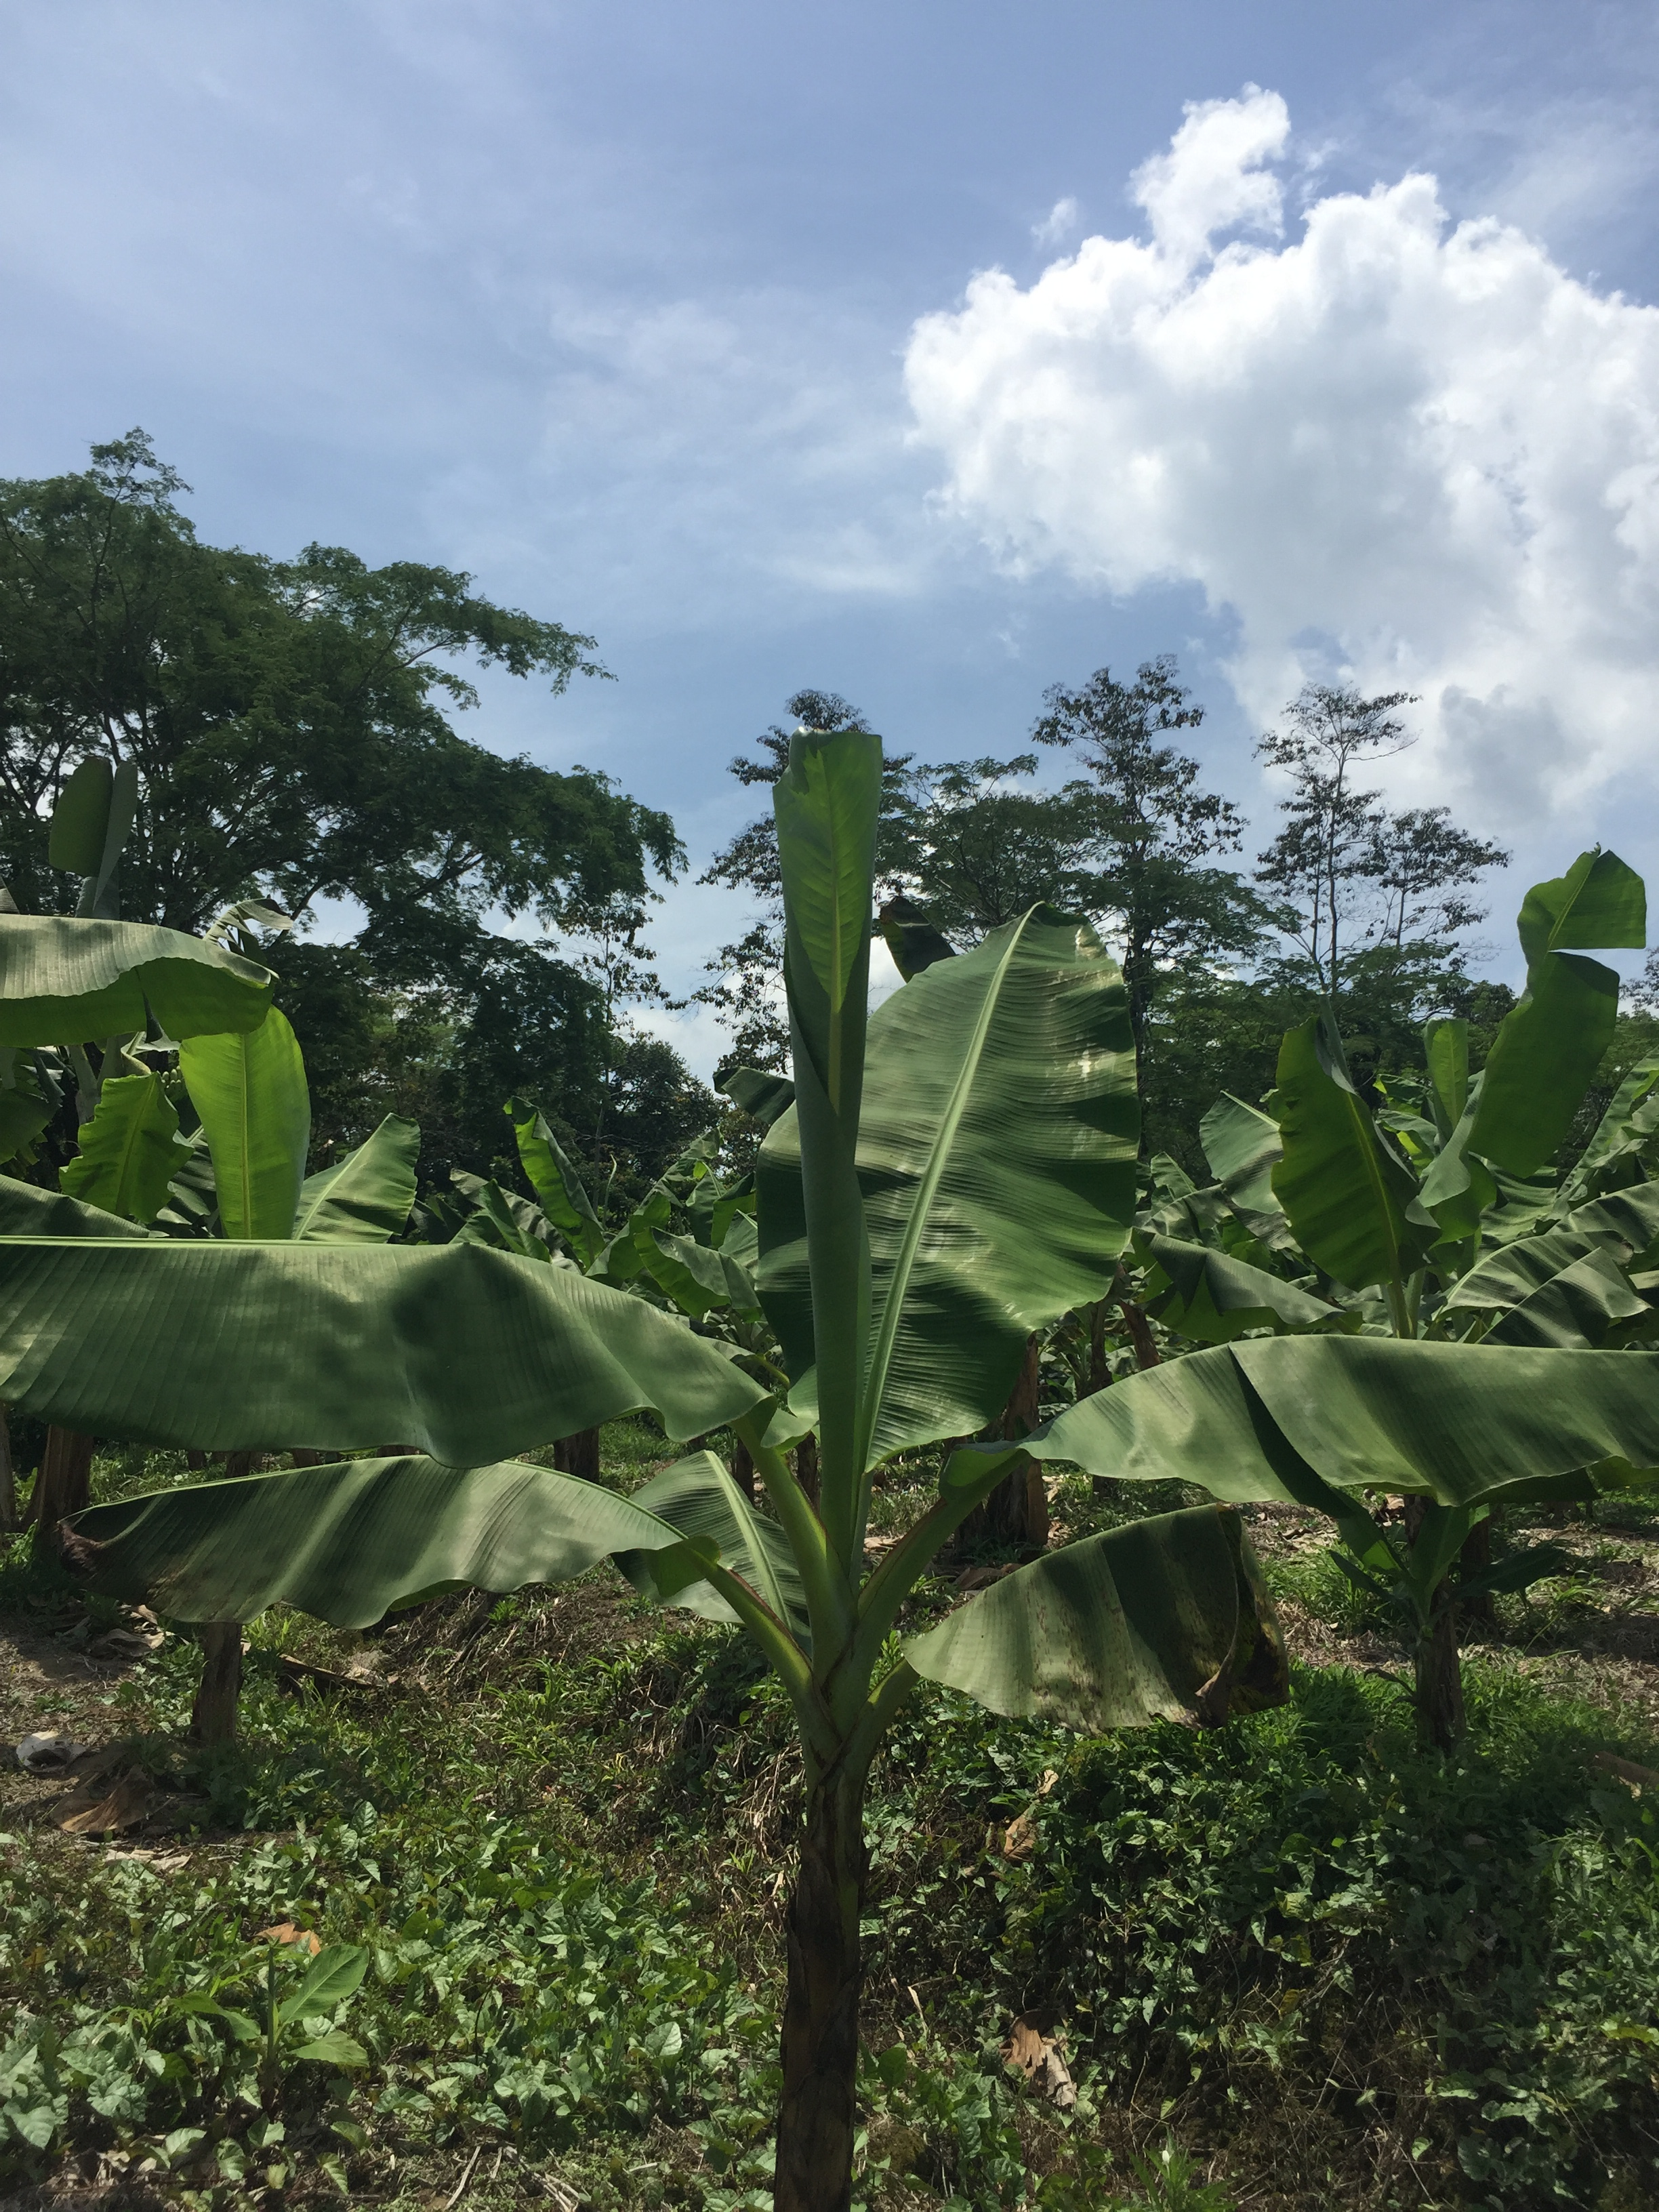candleleafs: (772, 735, 875, 1583), (603, 1155, 617, 1230)
